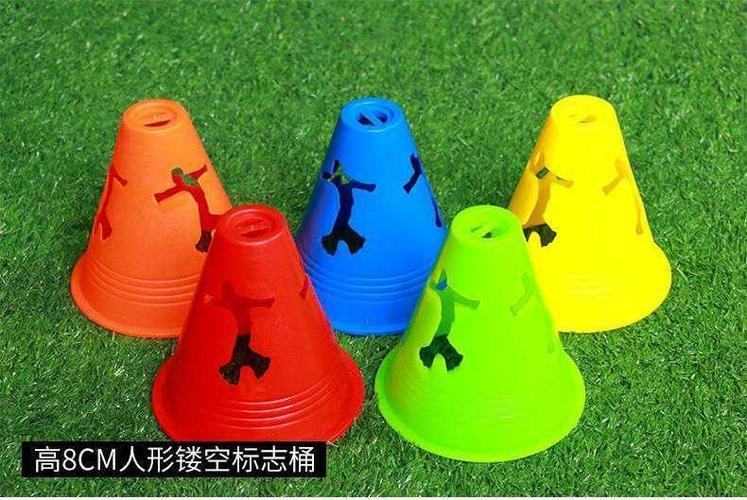cone_barrel: (372, 182, 591, 450), (152, 184, 365, 438), (496, 80, 677, 329), (65, 83, 233, 331), (292, 83, 452, 327)
